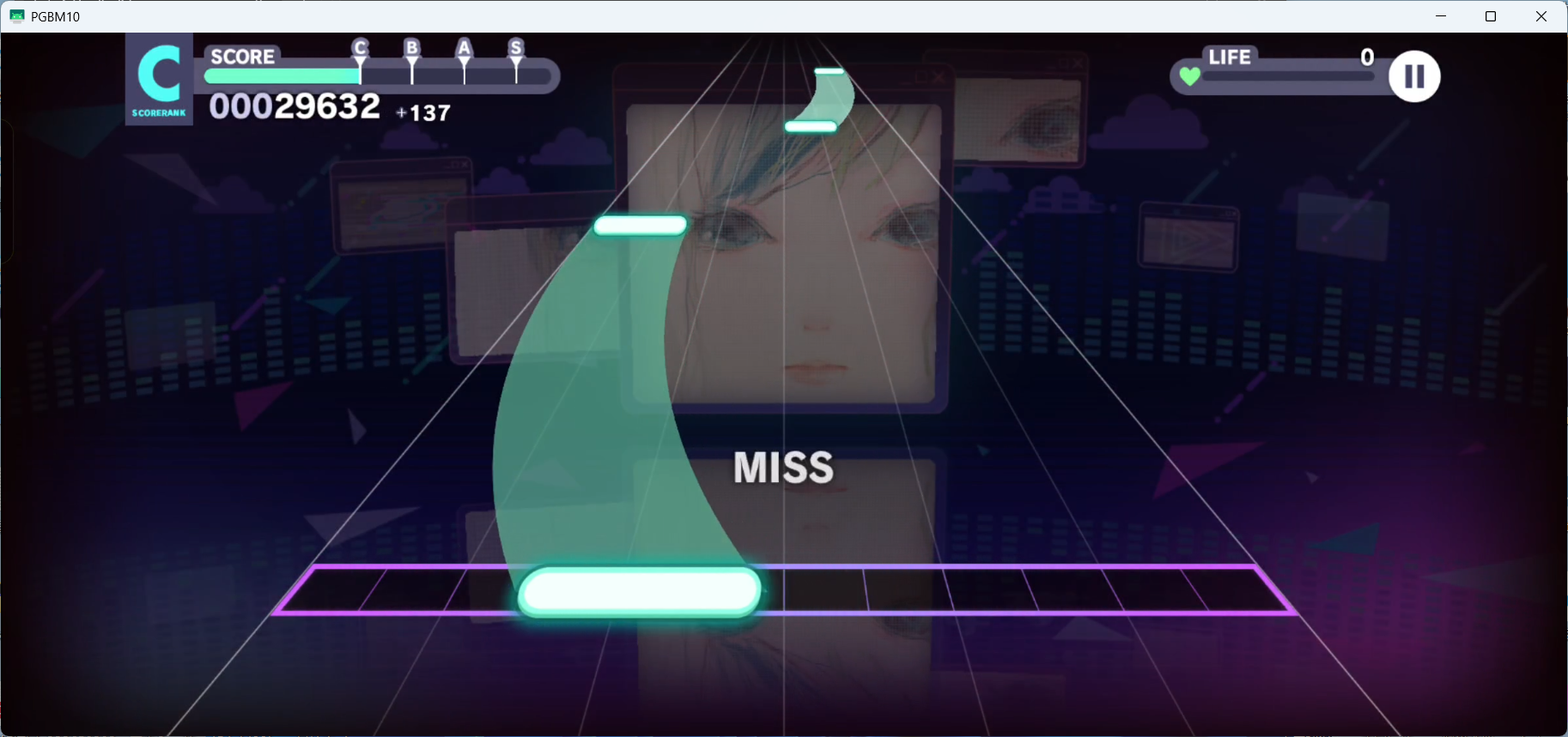hold: (492, 237, 748, 568), (794, 74, 854, 120)
tap: (518, 568, 763, 619), (594, 214, 686, 236), (785, 121, 836, 132), (814, 68, 843, 74)
